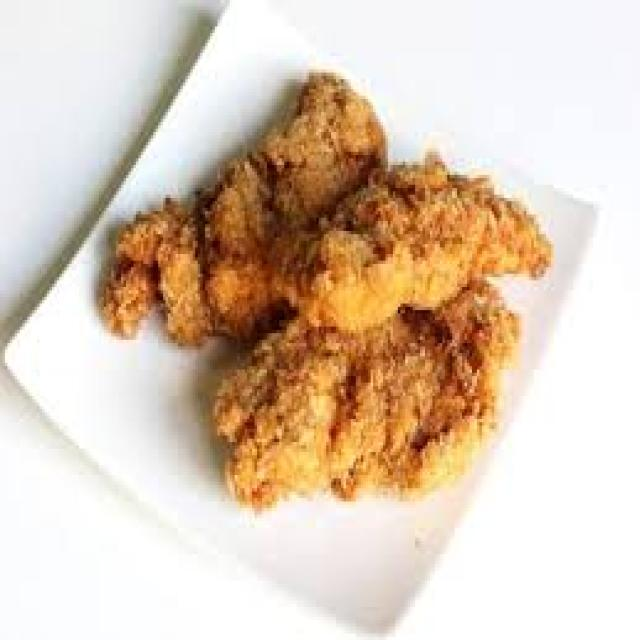Frango: (96, 66, 558, 531)
